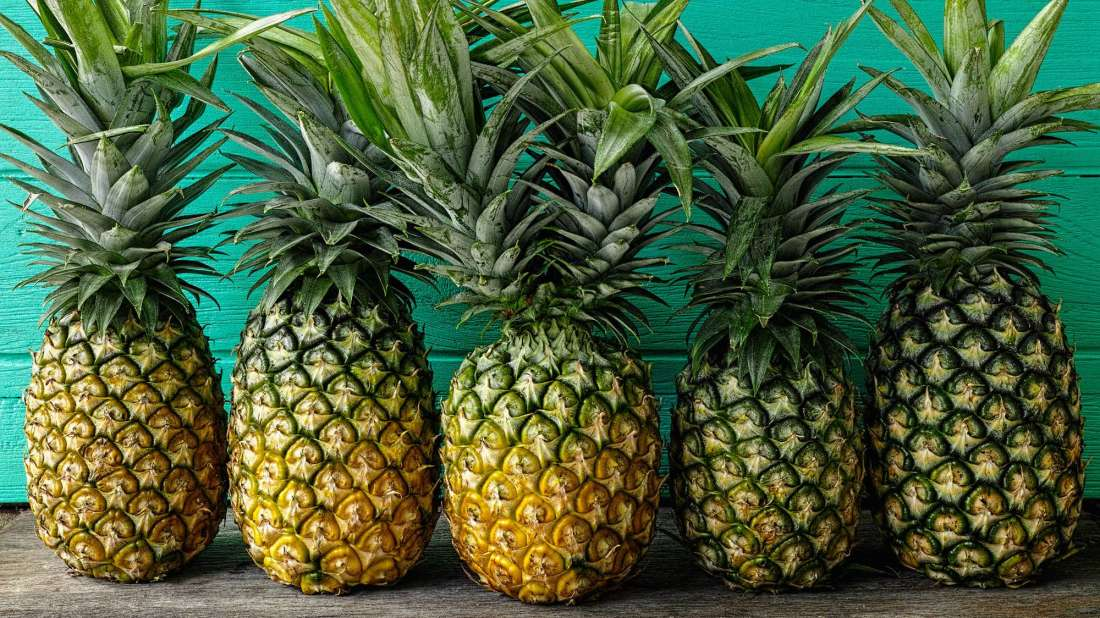pineapple: (766, 264, 1087, 585), (420, 313, 724, 618), (220, 306, 511, 597), (651, 315, 938, 602), (17, 304, 297, 584)
